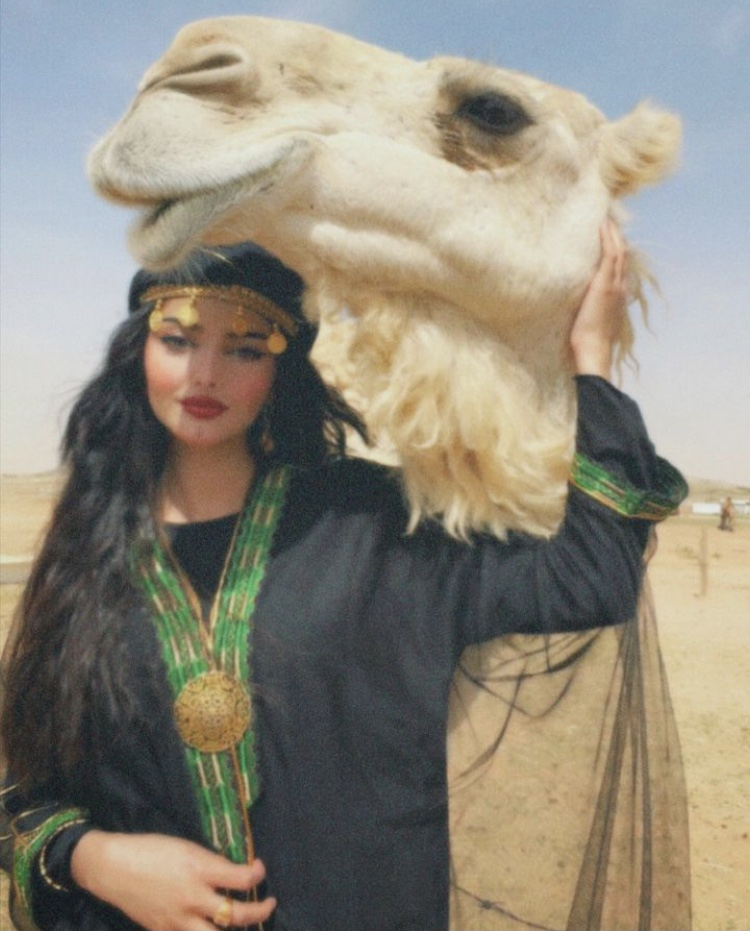Saudi_Founding_Day: (1, 214, 702, 931)
